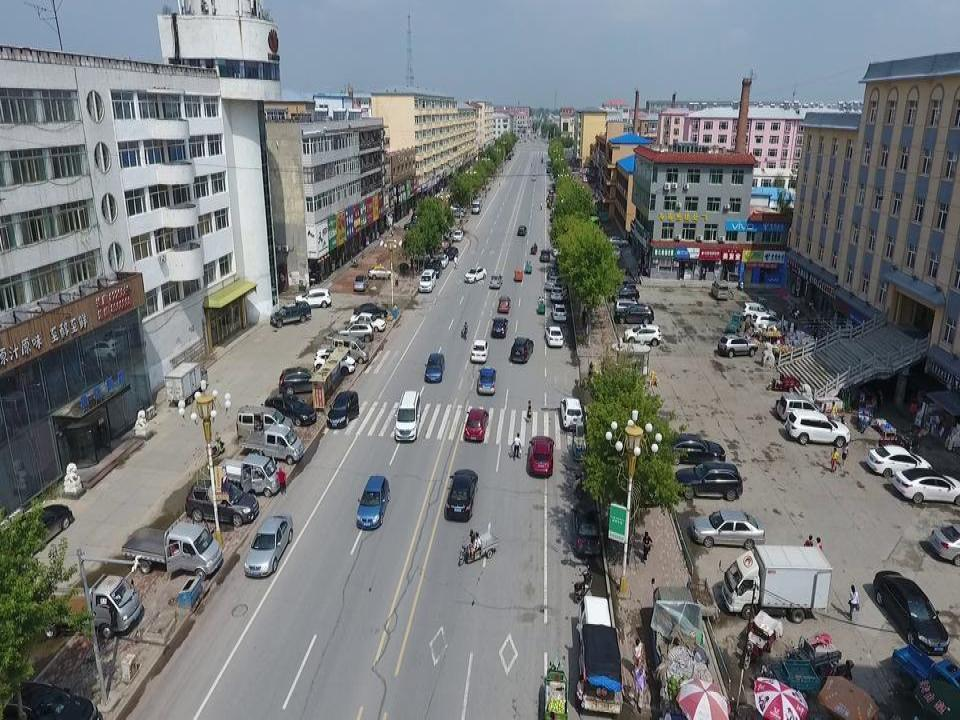car: (872, 569, 949, 656), (0, 504, 75, 564), (0, 680, 103, 719), (184, 477, 259, 528), (244, 512, 293, 577), (691, 510, 766, 550), (673, 460, 743, 501), (892, 466, 960, 507), (785, 409, 850, 448), (657, 432, 726, 467), (865, 444, 934, 477), (356, 473, 391, 531), (570, 501, 604, 560), (263, 392, 317, 427), (446, 468, 478, 520), (278, 365, 324, 395), (928, 524, 960, 567), (326, 390, 360, 430), (313, 348, 357, 376), (269, 300, 312, 328), (717, 332, 759, 359), (529, 435, 556, 477), (750, 311, 789, 336), (623, 322, 663, 346), (336, 318, 374, 342), (613, 303, 654, 325), (559, 396, 584, 431), (464, 408, 489, 443), (293, 287, 332, 309), (740, 301, 778, 323), (348, 311, 386, 332), (510, 336, 534, 364), (424, 352, 445, 384), (477, 365, 498, 395), (607, 283, 641, 301), (612, 296, 643, 315), (352, 302, 388, 318), (544, 324, 565, 348), (470, 338, 490, 362), (463, 265, 488, 284), (368, 263, 394, 280), (491, 316, 509, 339), (543, 273, 564, 292), (550, 281, 568, 303), (352, 273, 370, 292), (550, 302, 567, 322), (604, 235, 629, 248), (496, 294, 512, 314), (402, 217, 423, 232), (488, 271, 503, 289), (446, 205, 464, 220), (470, 197, 483, 216), (445, 244, 459, 261), (608, 244, 621, 261), (436, 253, 449, 270), (451, 228, 464, 243), (539, 246, 551, 262), (513, 266, 524, 282), (516, 224, 528, 237)
truck: (649, 576, 730, 720), (718, 544, 833, 624), (25, 572, 142, 639), (575, 592, 623, 716), (212, 452, 283, 497), (238, 423, 304, 465), (164, 362, 208, 406), (723, 312, 744, 333)
van: (121, 518, 223, 581), (236, 404, 294, 445), (776, 393, 826, 423), (394, 389, 421, 443), (330, 334, 369, 366), (418, 268, 437, 293), (711, 276, 730, 299), (429, 257, 443, 280)
